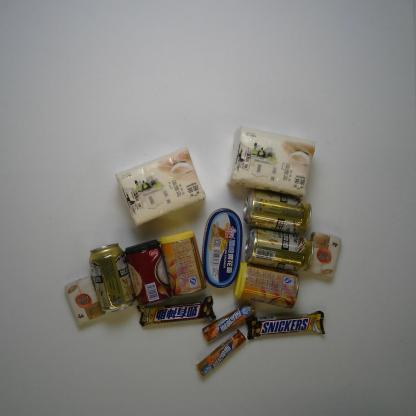Alcohol: (87, 240, 138, 316), (241, 187, 314, 234), (242, 228, 316, 273)
Candy: (192, 327, 248, 379), (197, 300, 260, 343)
Canned Food: (200, 206, 246, 289), (124, 237, 175, 309), (158, 228, 209, 299), (231, 260, 301, 310)
Chocolate: (133, 294, 220, 329), (242, 310, 328, 343)
Tissue: (114, 146, 209, 229), (225, 123, 318, 199), (63, 271, 106, 328), (305, 230, 343, 282)
